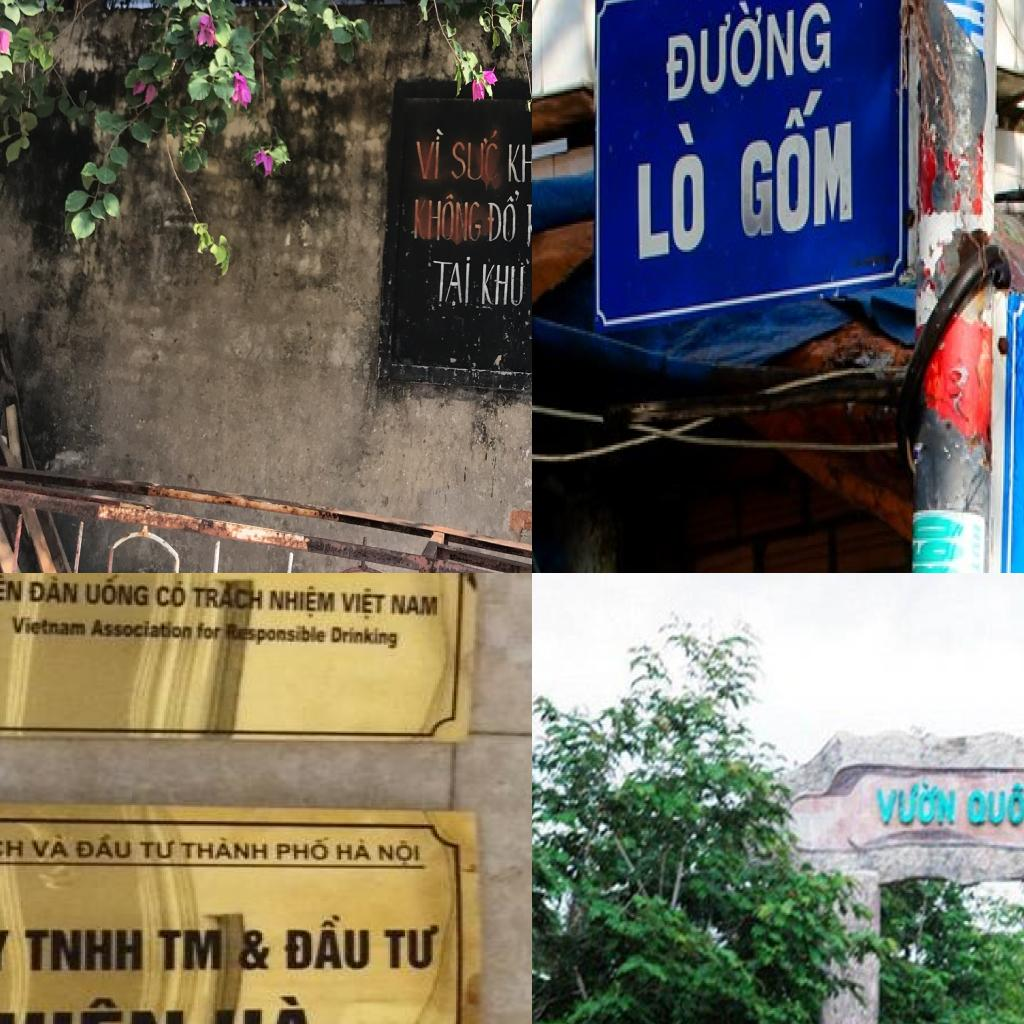text: (736, 84, 856, 243), (665, 0, 834, 107), (638, 122, 708, 264), (283, 914, 373, 973), (25, 930, 147, 973), (875, 776, 961, 836), (0, 997, 187, 1024), (965, 770, 1024, 835), (414, 192, 482, 247), (209, 993, 324, 1024), (910, 517, 966, 573), (450, 128, 500, 188), (430, 255, 478, 313), (384, 924, 441, 972), (268, 584, 339, 621), (160, 930, 224, 971), (224, 622, 328, 646), (486, 186, 523, 250), (181, 835, 271, 861), (482, 256, 526, 309), (85, 573, 151, 608), (91, 618, 196, 640), (192, 581, 266, 611), (412, 125, 446, 183), (330, 626, 401, 650), (10, 616, 90, 637), (341, 587, 390, 621), (236, 928, 273, 972), (506, 130, 532, 189), (30, 575, 80, 605), (77, 834, 134, 859), (277, 837, 332, 861), (392, 592, 441, 618), (379, 840, 422, 868), (30, 832, 72, 860), (156, 579, 190, 610), (337, 838, 375, 862), (138, 839, 179, 861), (0, 573, 27, 603), (0, 838, 27, 864), (0, 928, 14, 974), (198, 621, 226, 642)
